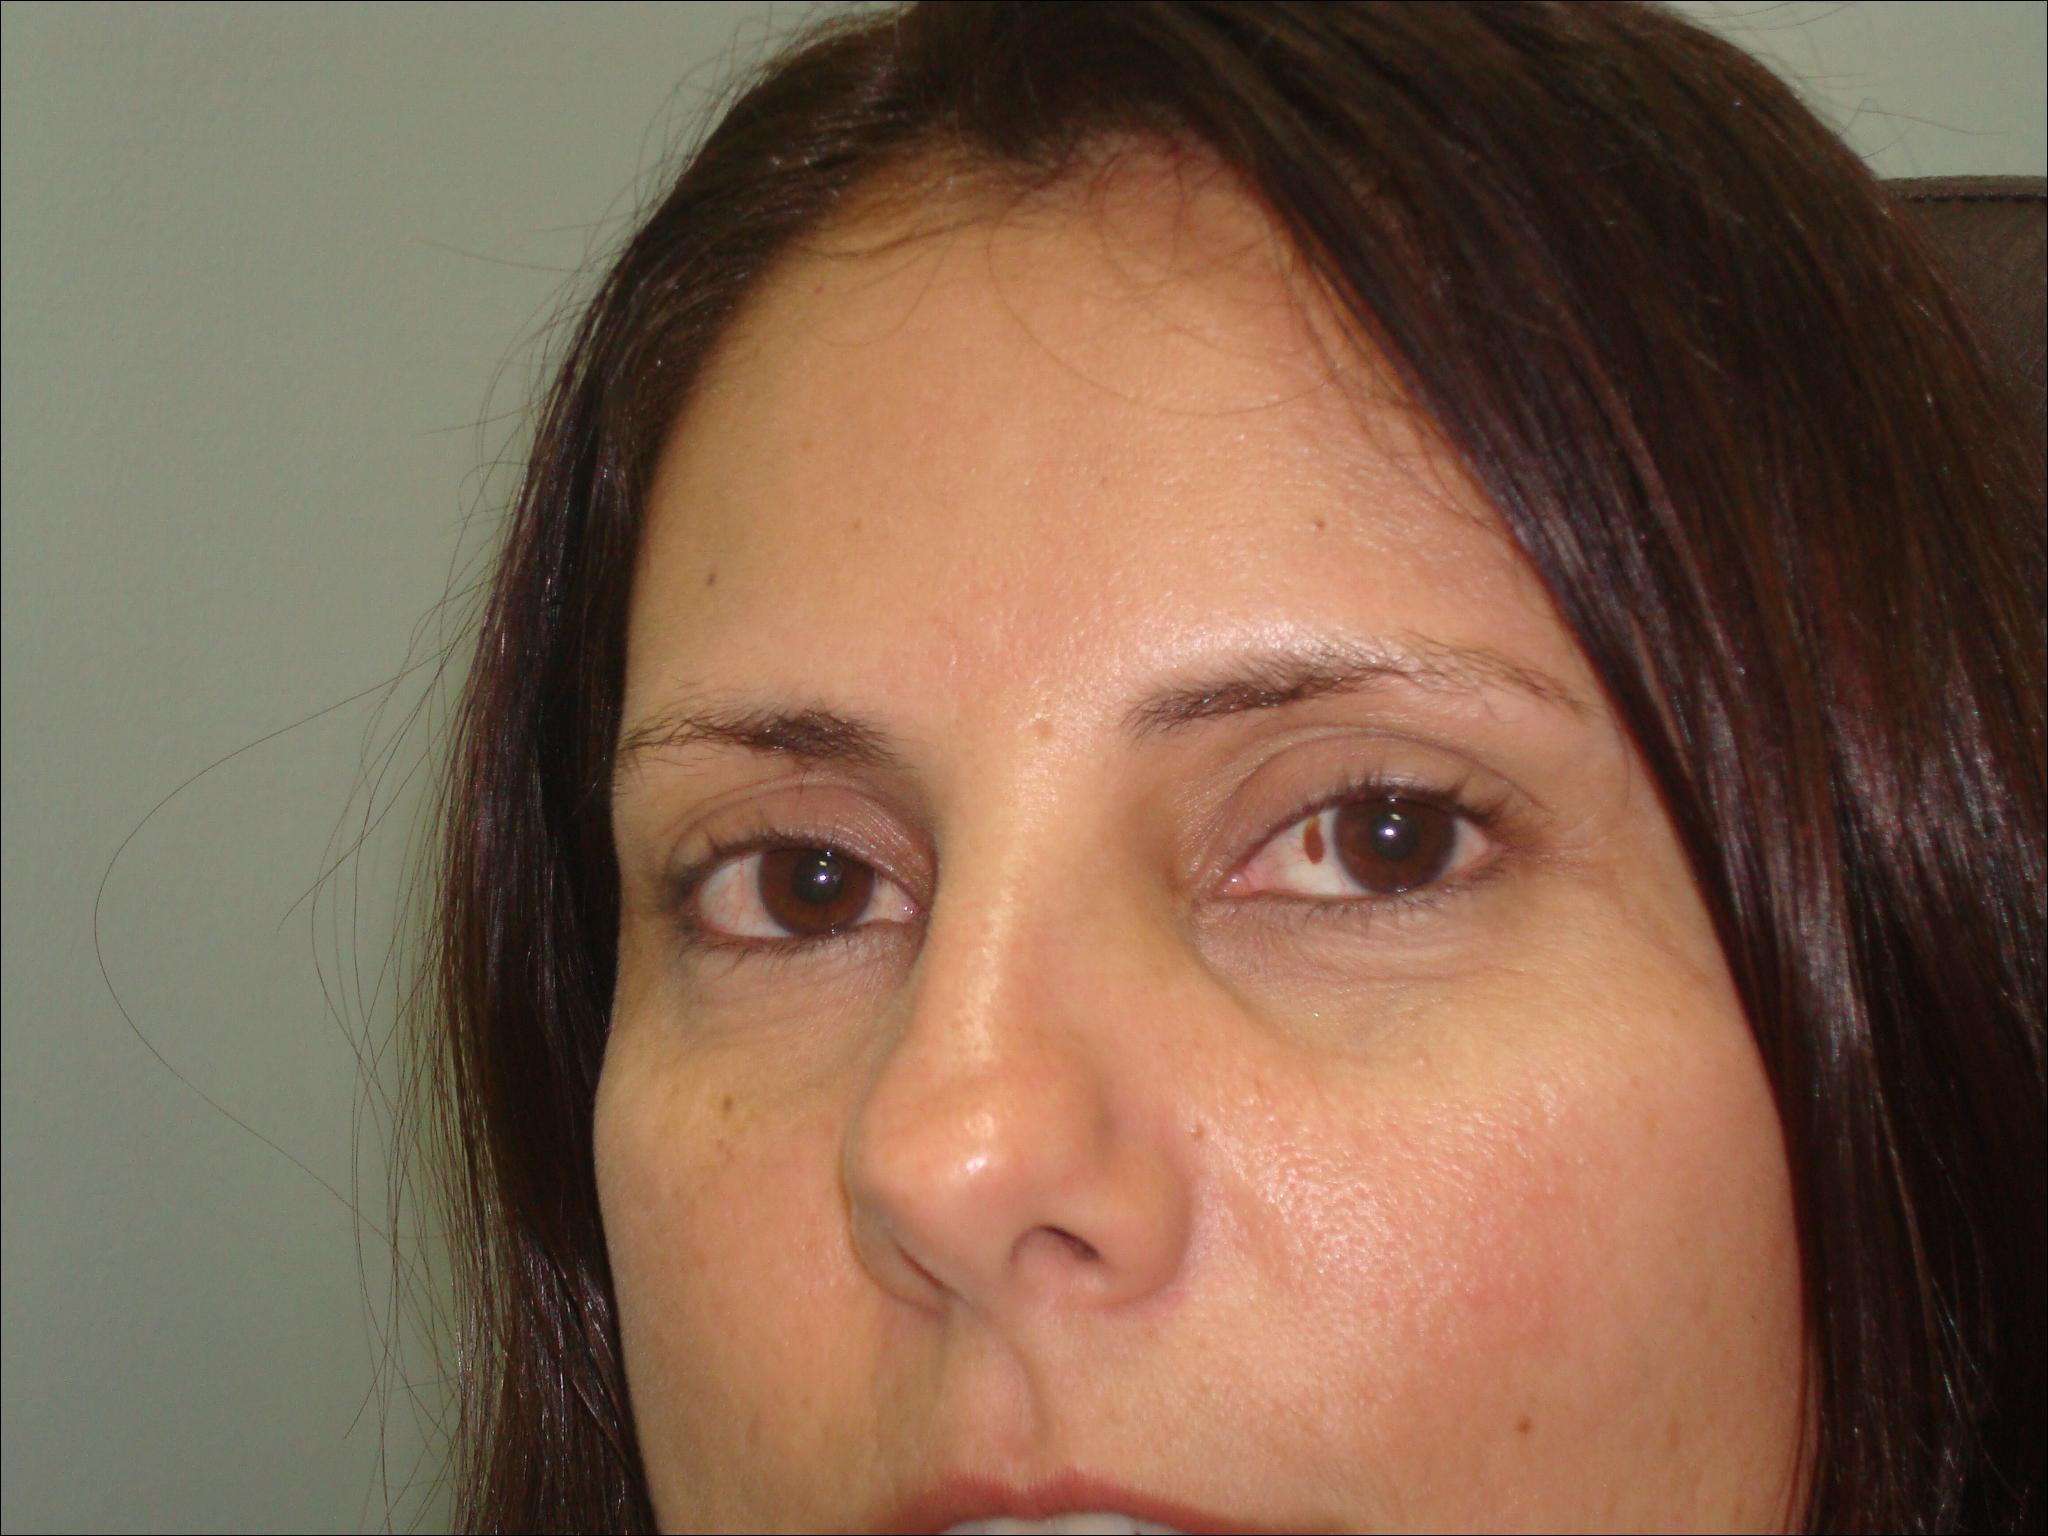flash: (1379, 821, 1400, 842), (814, 870, 830, 886)
limbo: (1335, 781, 1456, 889), (760, 831, 876, 933)
